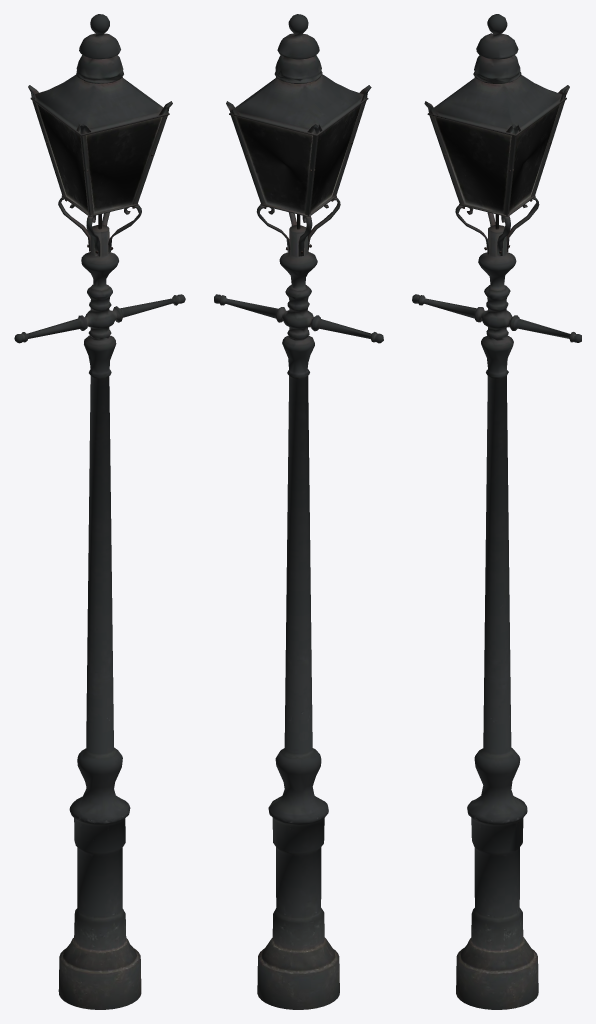
File: street_lamp_01.glb
3 views of the same model, side by side, from view 1: azimuth 30°, elevation 25°; view 2: azimuth 150°, elevation 25°; view 3: azimuth 330°, elevation 25° (orthographic).
Visible parts, largest first — view 1: street_lamp_01; view 2: street_lamp_01; view 3: street_lamp_01.
Part boxes in pixels (x1,y1,x2,y2): street_lamp_01: [14, 14, 185, 1009]; street_lamp_01: [214, 14, 383, 1009]; street_lamp_01: [412, 14, 581, 1009].
Bounding box in the file's own units: 0.7025 × 3.87 × 0.3852.
2 materials, 2 textured.
